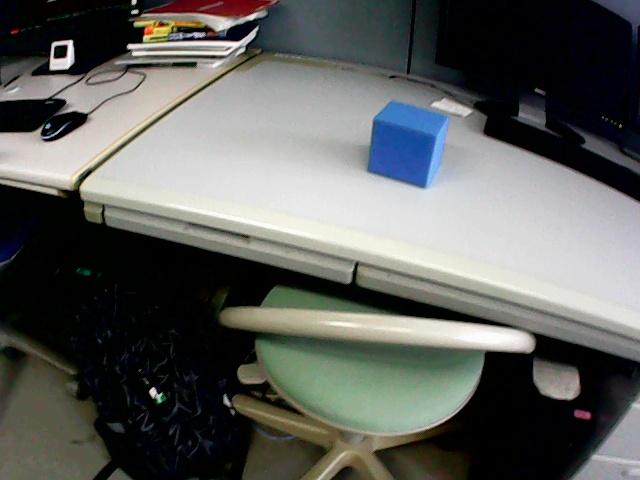blue_block: (368, 101, 448, 186)
